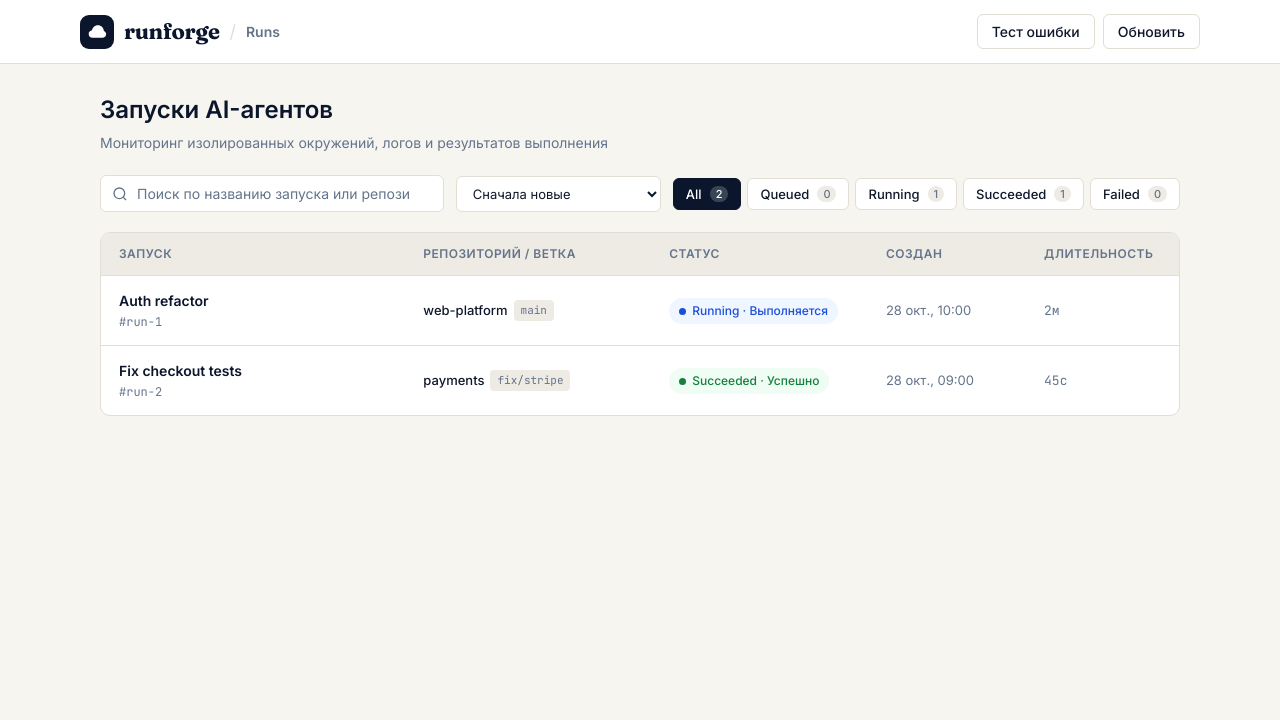
Runforge Runs Dashboard › 3. Клик по запуску открывает Drawer с деталями и логами
Step 1. Click the text "Fix checkout tests" → (181, 370), box [119,362,242,379]
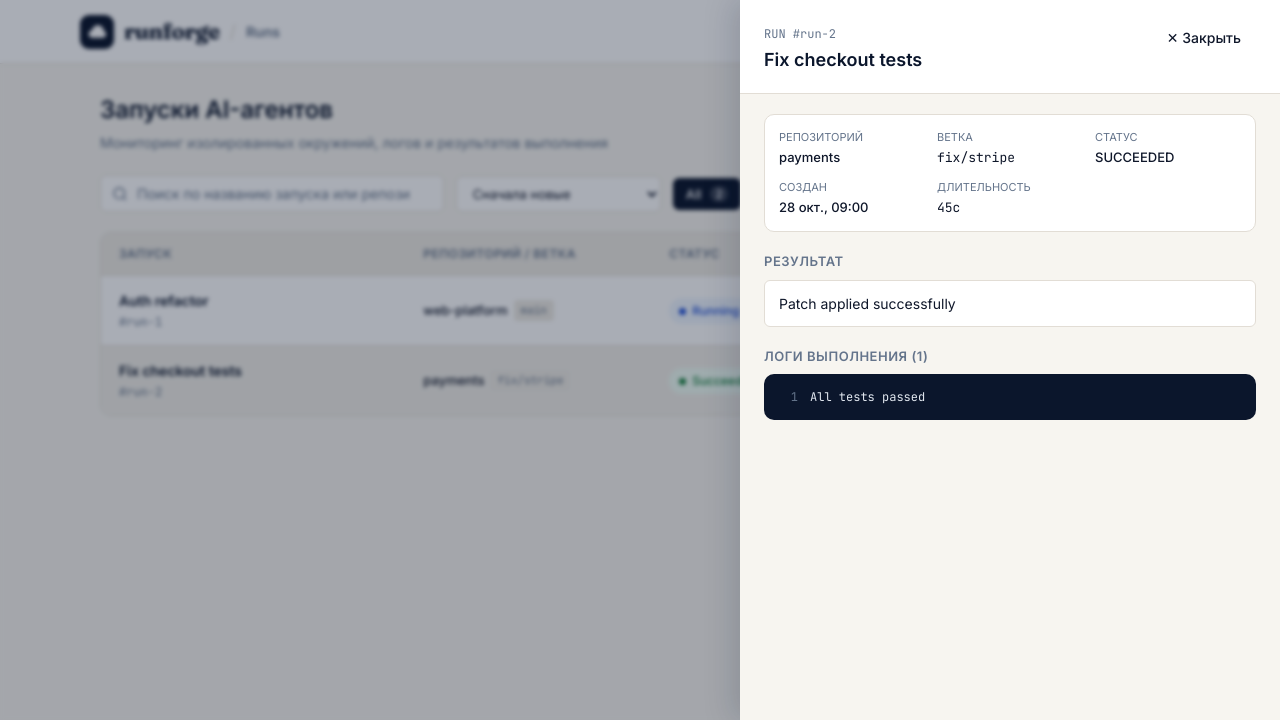
expect the element named "Детали запуска" is shown: met, box [740,0,1279,719]
expect the text "Patch applied successfully" is shown: met, box [764,280,1256,326]
expect the text "All tests passed" is shown: met, box [810,388,925,406]
